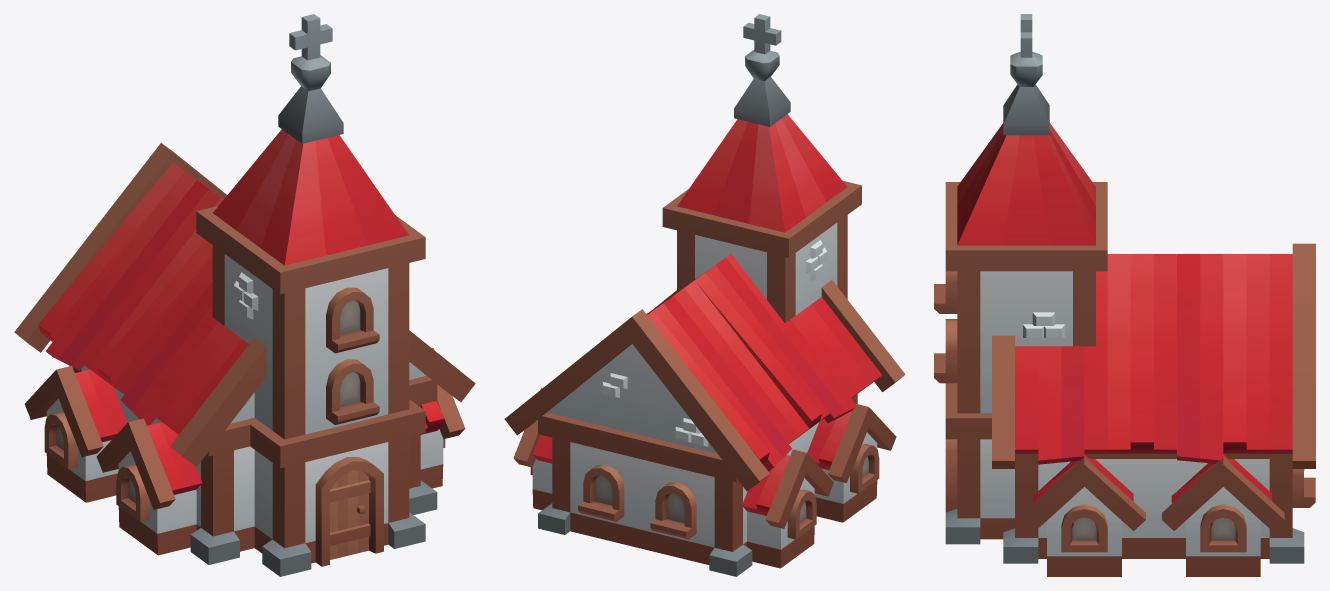
The model's file is church_red.glb.
The picture shows the model from 3 angles, left to right: view 1: azimuth 30°, elevation 25°; view 2: azimuth 150°, elevation 25°; view 3: azimuth 270°, elevation 25°; orthographic projection. The views are drawn at different scales.
Parts seen in each view (by area): view 1: building_church_red; view 2: building_church_red; view 3: building_church_red.
Boxes of the visible parts, x1,y1,x2,y2 form: building_church_red: (14,14,475,576); building_church_red: (504,14,905,576); building_church_red: (934,14,1315,576).
Bounding box in the file's own units: 1.03 × 1.65 × 1.16.
Materials: 1 (1 with a texture image).
